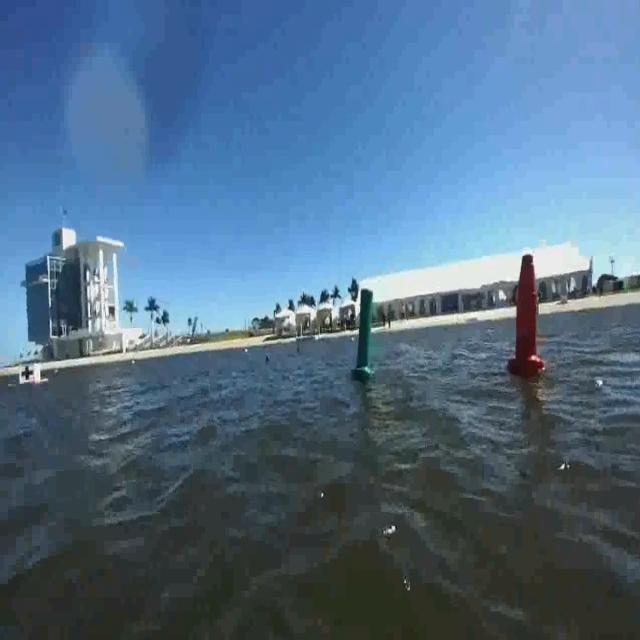green-column-buoy: (352, 286, 377, 382)
red-column-buoy: (508, 254, 546, 378)
